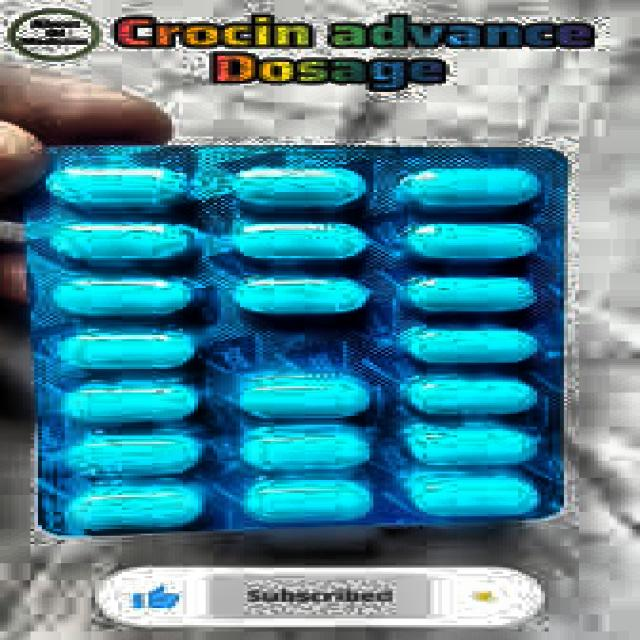Crocin: (28, 152, 555, 514), (101, 16, 309, 60)
